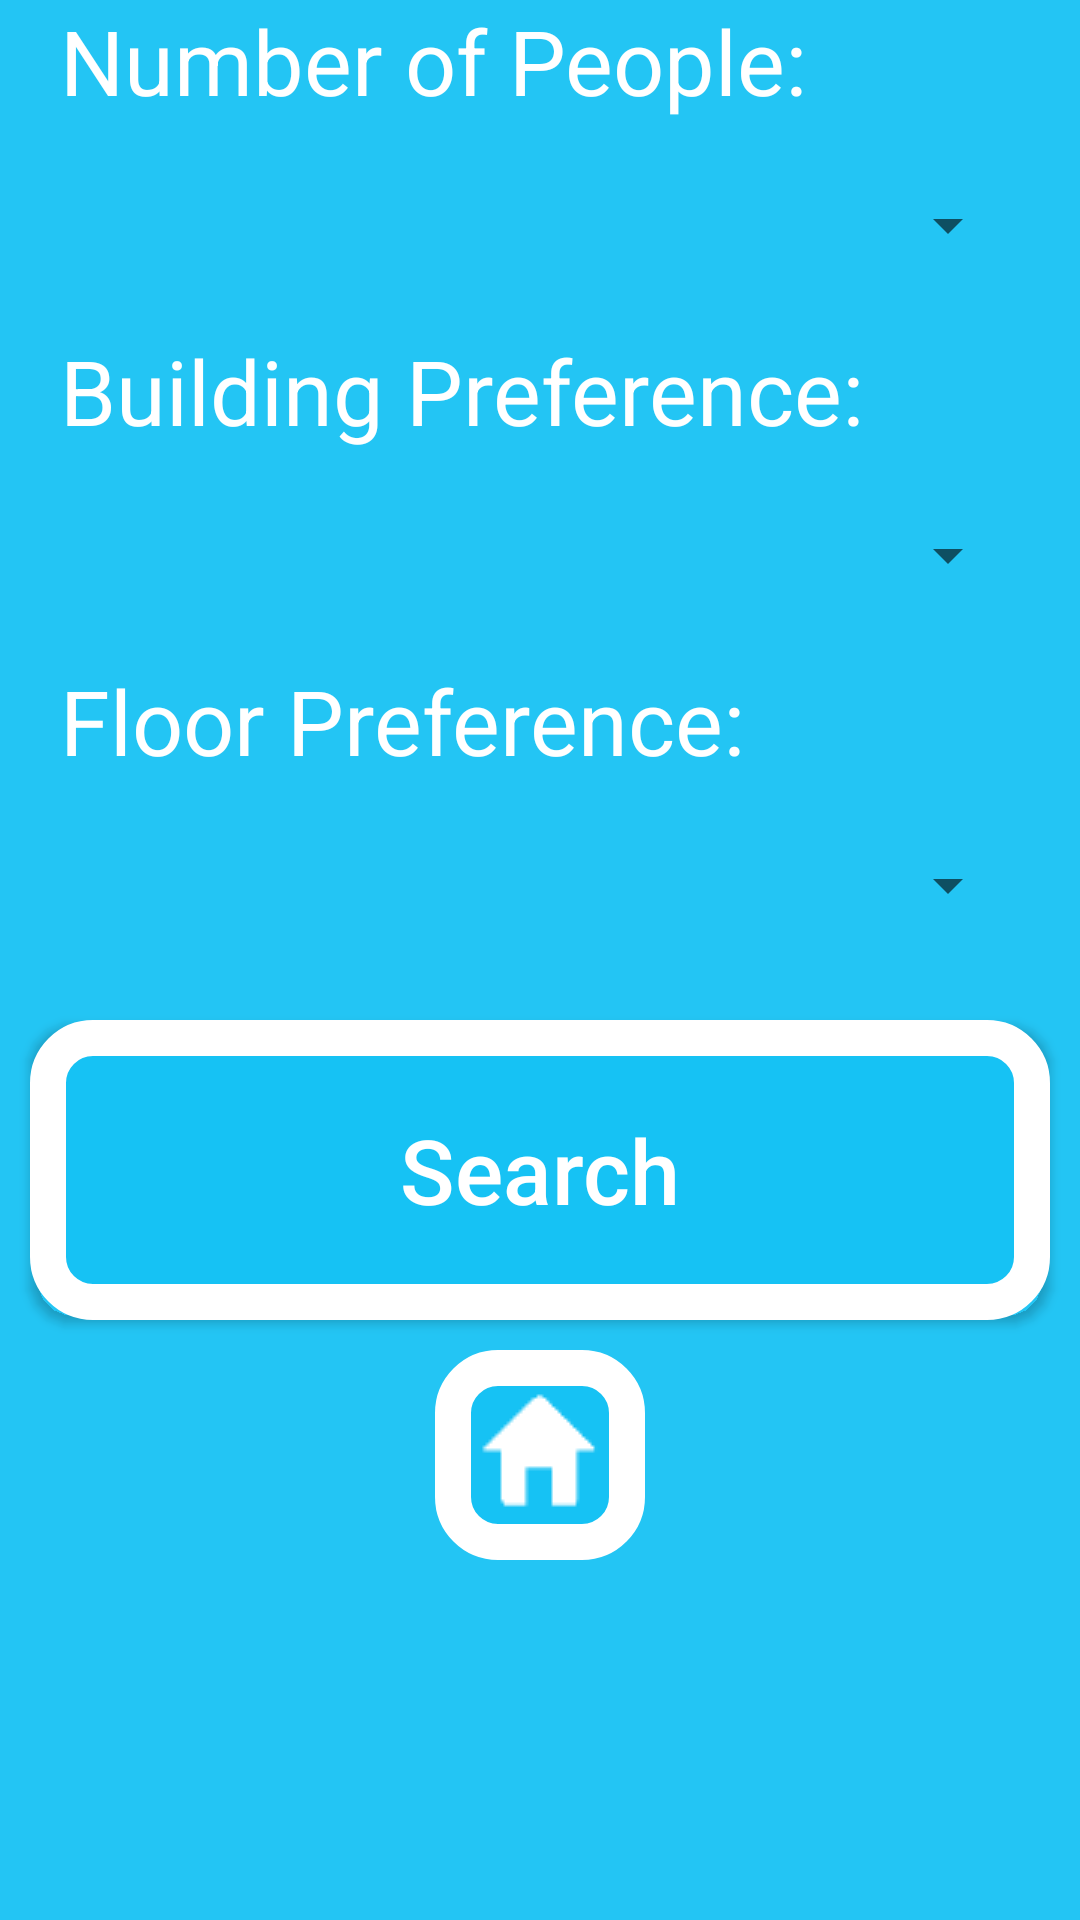

Named icons in this screenshot (1080w x 1920h) and their bounding boxes, (x1, y1, x2, y2):
home: (435, 1350, 645, 1560)
